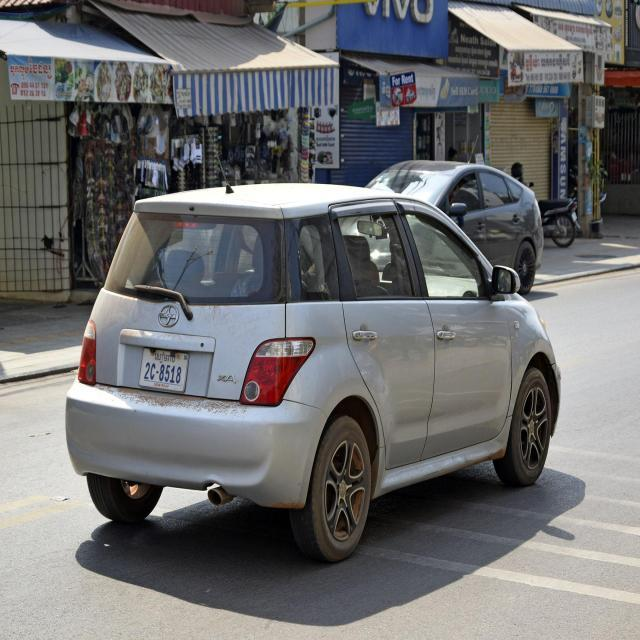Siem_Reap: (153, 351, 178, 364)
